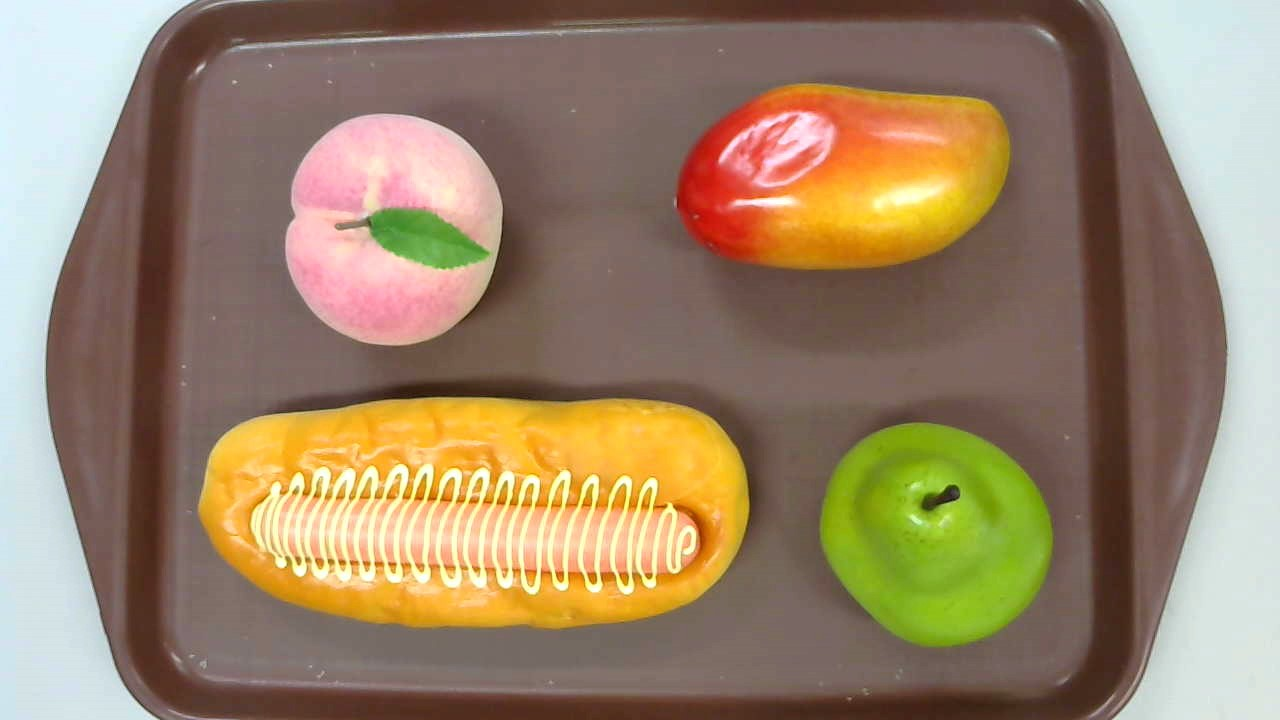green pear: (819, 421, 1051, 645)
hot dog: (197, 397, 749, 628)
peach: (285, 112, 503, 347)
red mango: (674, 81, 1010, 274)
